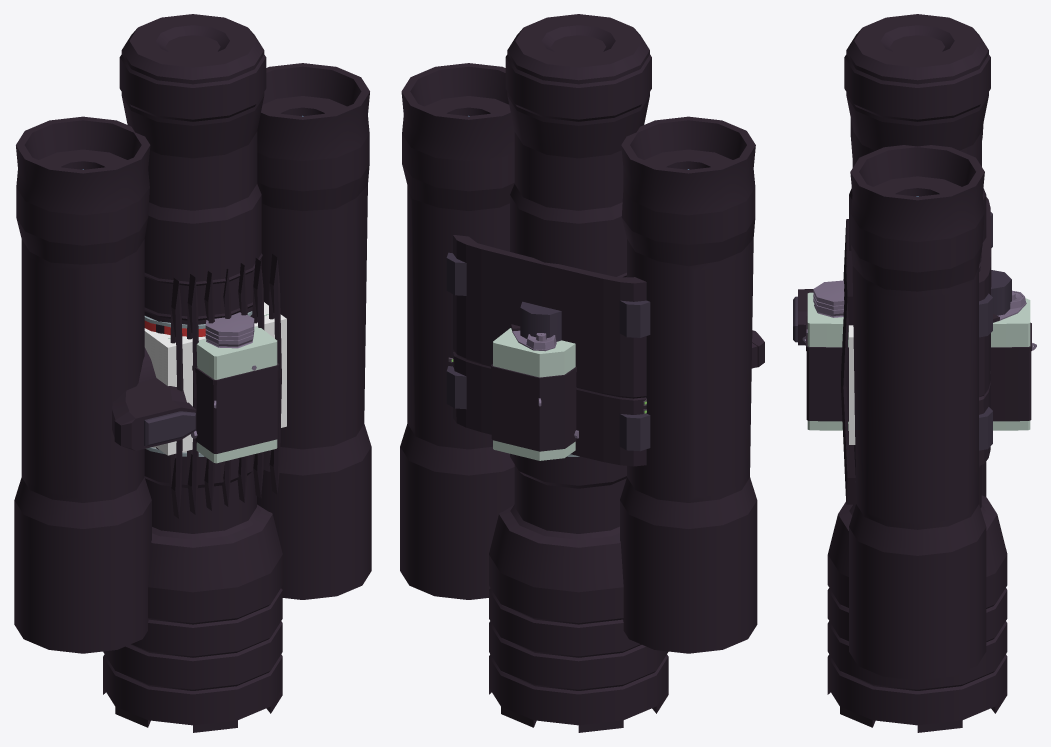
Rendered from survival-game-prop-asset-pack-419ed2.glb.
3 views of the same model, side by side, from view 1: azimuth 30°, elevation 25°; view 2: azimuth 150°, elevation 25°; view 3: azimuth 270°, elevation 25° (orthographic).
Visible parts, largest first — view 1: PropMesh; view 2: PropMesh; view 3: PropMesh.
Part boxes in pixels (left/top/right/bottom): PropMesh: left=14, top=14, right=371, bottom=732; PropMesh: left=400, top=14, right=764, bottom=732; PropMesh: left=793, top=14, right=1036, bottom=732.
Bounding box in the file's own units: 1.19 × 2.2 × 0.7434.
1 material, 1 textured.
